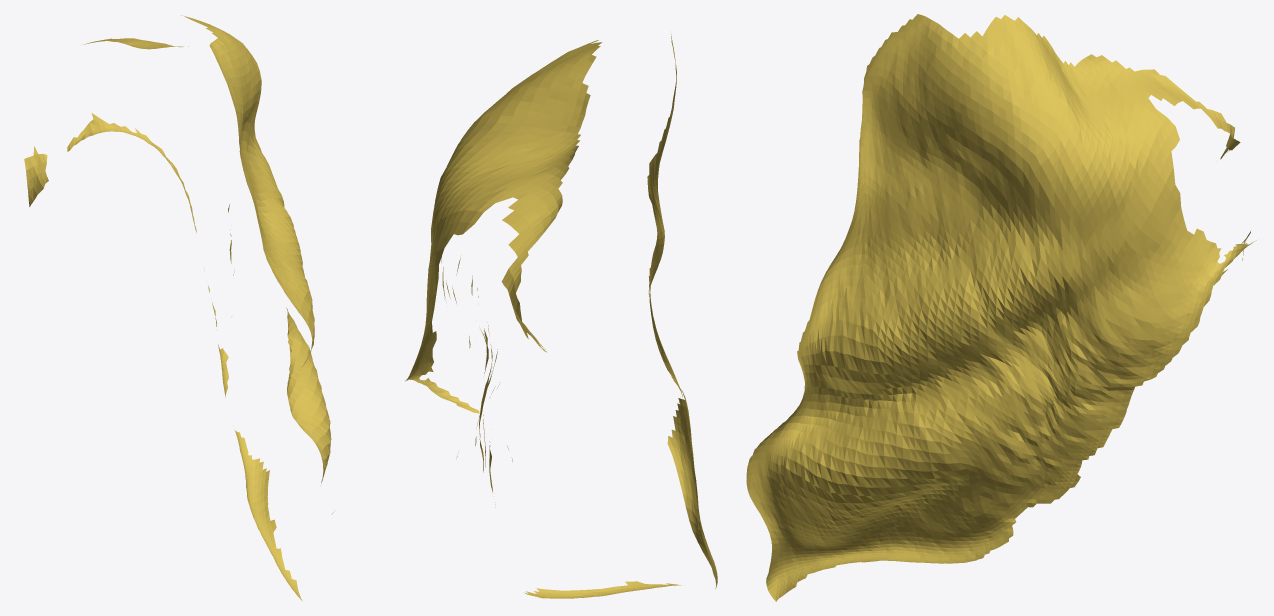
File: rh_insula.glb
The picture shows the model from 3 angles, left to right: view 1: azimuth 30°, elevation 25°; view 2: azimuth 150°, elevation 25°; view 3: azimuth 270°, elevation 25°; orthographic projection. The views are drawn at different scales.
Visible parts, largest first — view 1: world; view 2: world; view 3: world.
Boxes of the visible parts, box(x1,y1,x2,y2) form: world: box(24, 15, 333, 601); world: box(405, 34, 717, 598); world: box(746, 14, 1256, 601).
Size of the model in its own units: 17.7 by 54.06 by 43.66.
